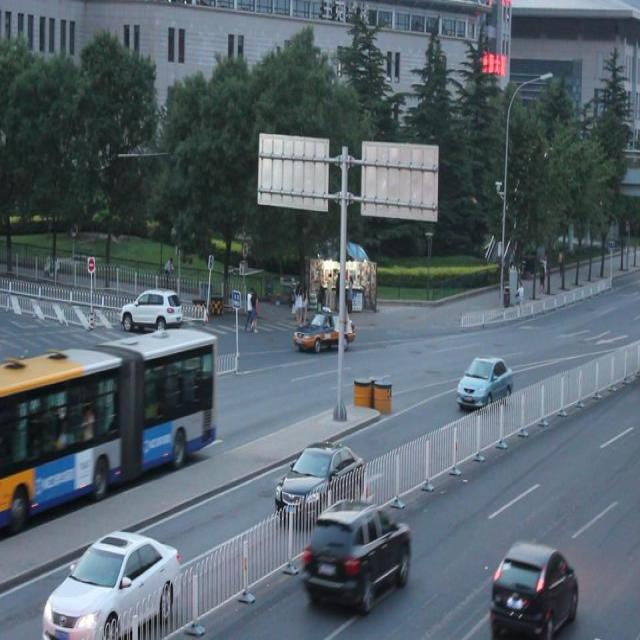car: (41, 530, 181, 640), (304, 502, 410, 604), (488, 538, 580, 640), (274, 440, 366, 526), (456, 353, 513, 411), (124, 288, 180, 334), (294, 311, 352, 353)
van: (1, 320, 214, 536)
